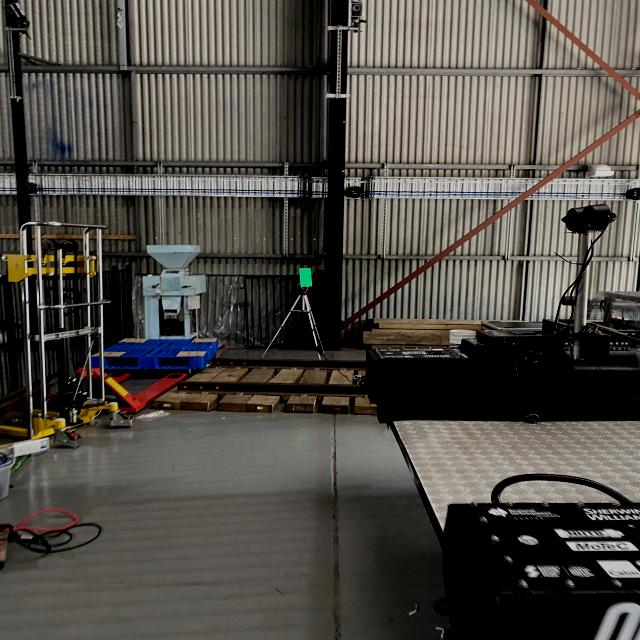matrix: (296, 264, 316, 290)
